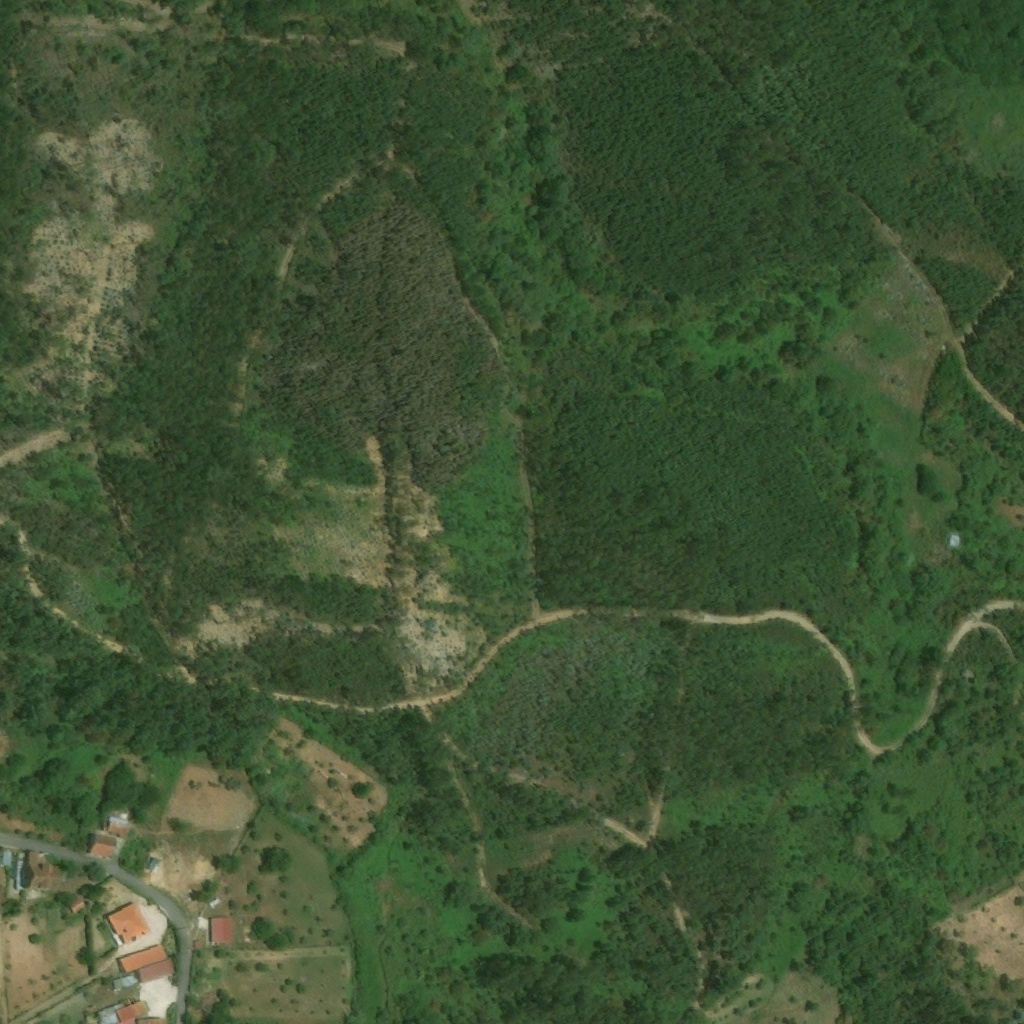0 no-damage: (101, 902, 150, 946), (117, 944, 168, 972), (138, 956, 174, 984), (98, 812, 129, 834), (115, 1001, 149, 1021), (207, 914, 231, 941), (90, 834, 115, 859), (97, 1001, 121, 1023), (113, 972, 139, 989), (69, 899, 84, 914)
4 un-classified: (117, 1016, 135, 1023)
